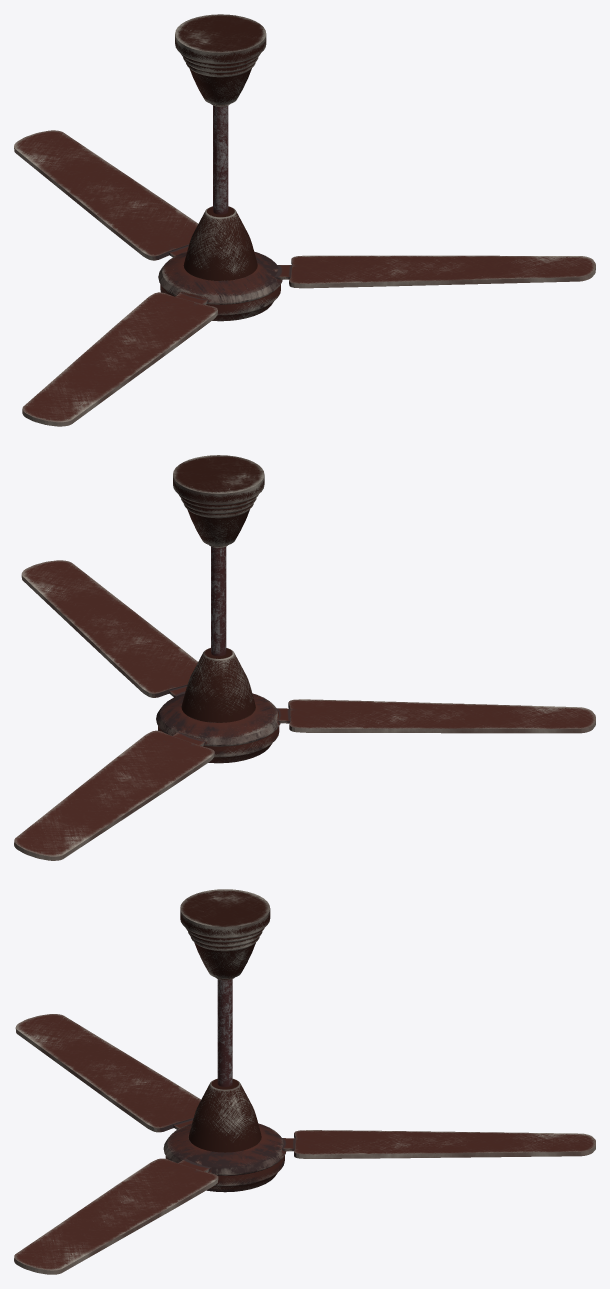
File: old_rusty_ceiling_fan.glb
3 views of the same model, one above another, from view 1: azimuth 30°, elevation 25°; view 2: azimuth 150°, elevation 25°; view 3: azimuth 270°, elevation 25° (orthographic).
Parts seen in each view (by area): view 1: SM_FanHandle_2, SM_FanBlade2_3, SM_FanBlade1_4, SM_FanBlade3_0, SM_fanHead_1; view 2: SM_FanHandle_2, SM_FanBlade1_4, SM_FanBlade3_0, SM_FanBlade2_3, SM_fanHead_1; view 3: SM_FanHandle_2, SM_FanBlade3_0, SM_FanBlade2_3, SM_FanBlade1_4, SM_fanHead_1.
Boxes of the visible parts, box(x1,y1,x2,y2) form: SM_FanHandle_2: box(175, 14, 266, 280); SM_FanBlade2_3: box(22, 292, 217, 426); SM_FanBlade1_4: box(14, 130, 197, 260); SM_FanBlade3_0: box(274, 255, 595, 288); SM_fanHead_1: box(158, 251, 282, 321); SM_FanHandle_2: box(173, 455, 264, 722); SM_FanBlade1_4: box(14, 730, 214, 860); SM_FanBlade3_0: box(21, 560, 197, 697); SM_FanBlade2_3: box(277, 699, 595, 733); SM_fanHead_1: box(156, 693, 280, 763); SM_FanHandle_2: box(180, 889, 270, 1152); SM_FanBlade3_0: box(14, 1158, 218, 1274); SM_FanBlade2_3: box(15, 1014, 200, 1132); SM_FanBlade1_4: box(281, 1130, 595, 1158); SM_fanHead_1: box(163, 1123, 286, 1192).
Size of the model in its own units: 1.62 by 0.7463 by 1.46.
4 materials, 4 textured.
